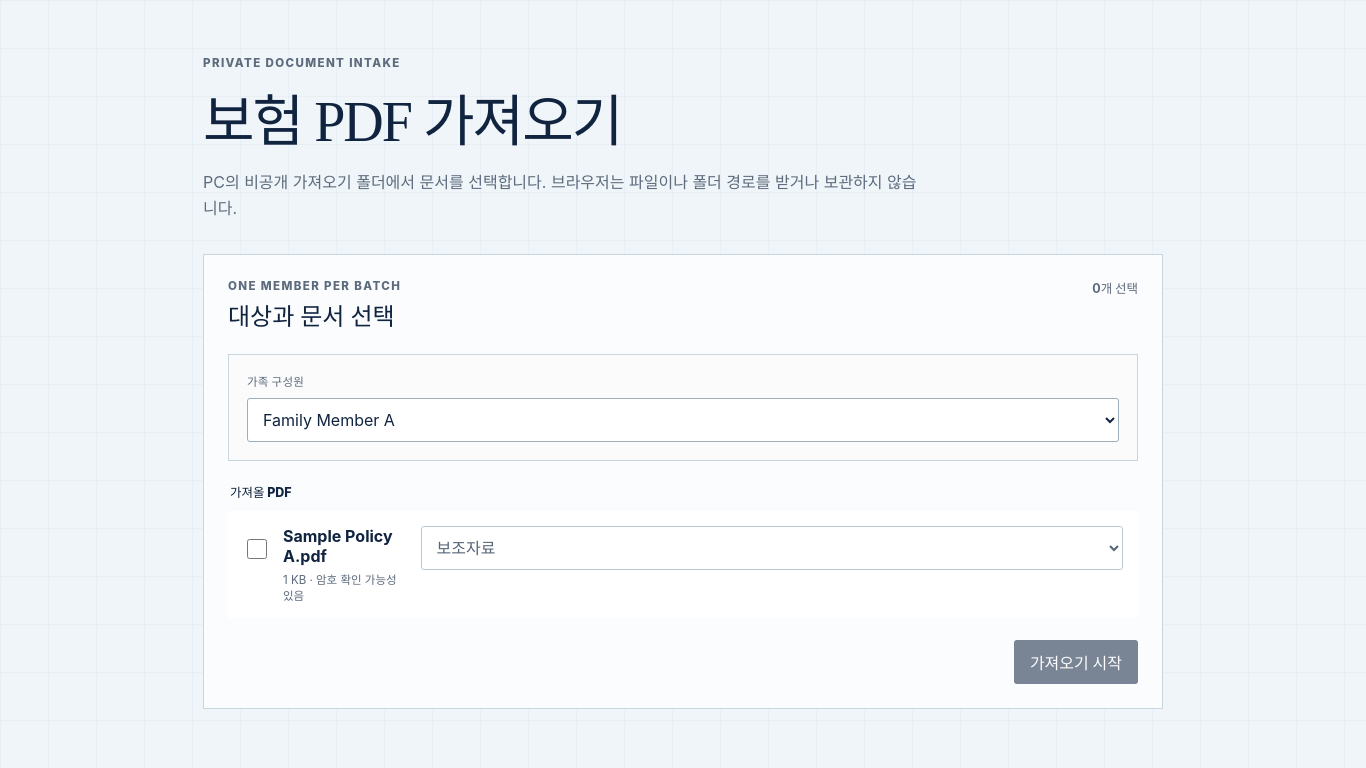
Test: document import page › clears and closes a dismissed password prompt
Click the checkbox labelled "Sample Policy A.pdf 1 KB · 암호 확인 가능성 있음": (257, 549) [247,527,267,571]
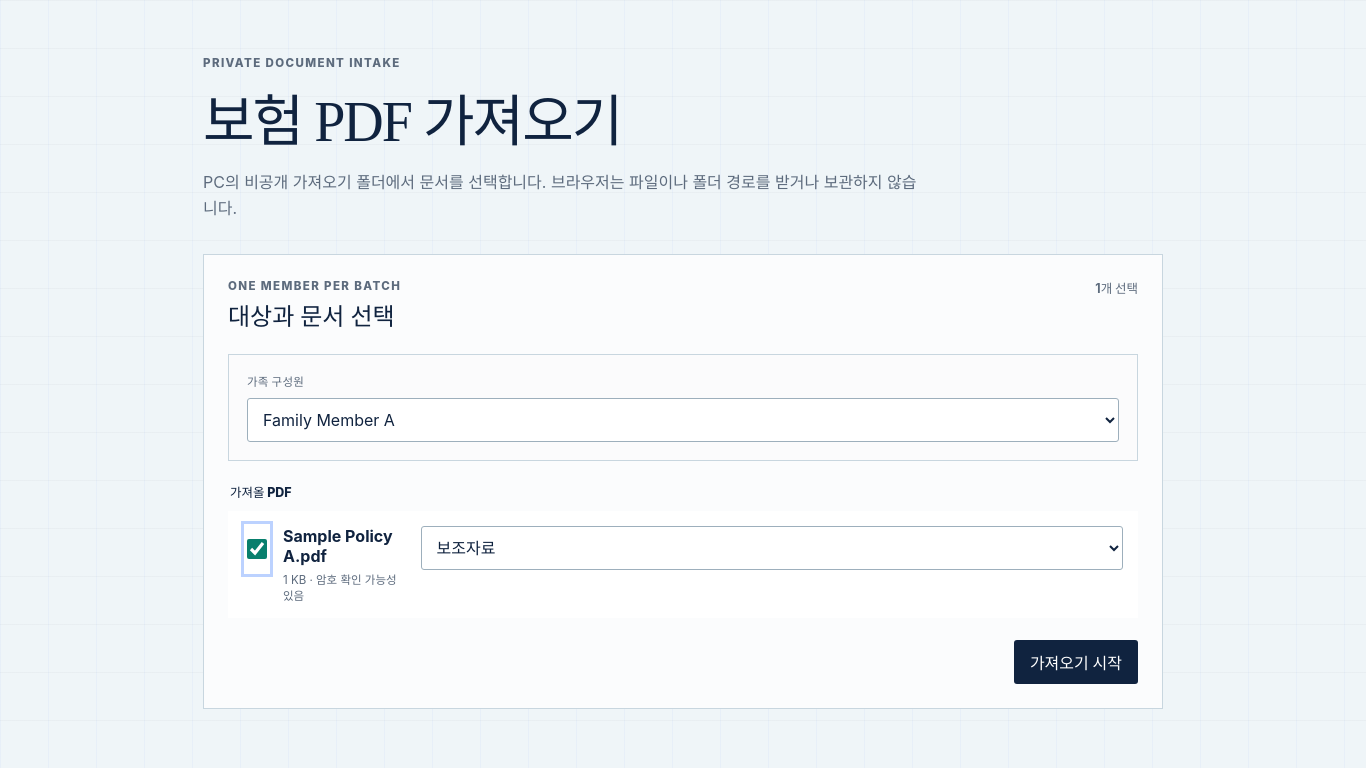
Click the button "가져오기 시작": (1076, 662) [1014,640,1138,684]
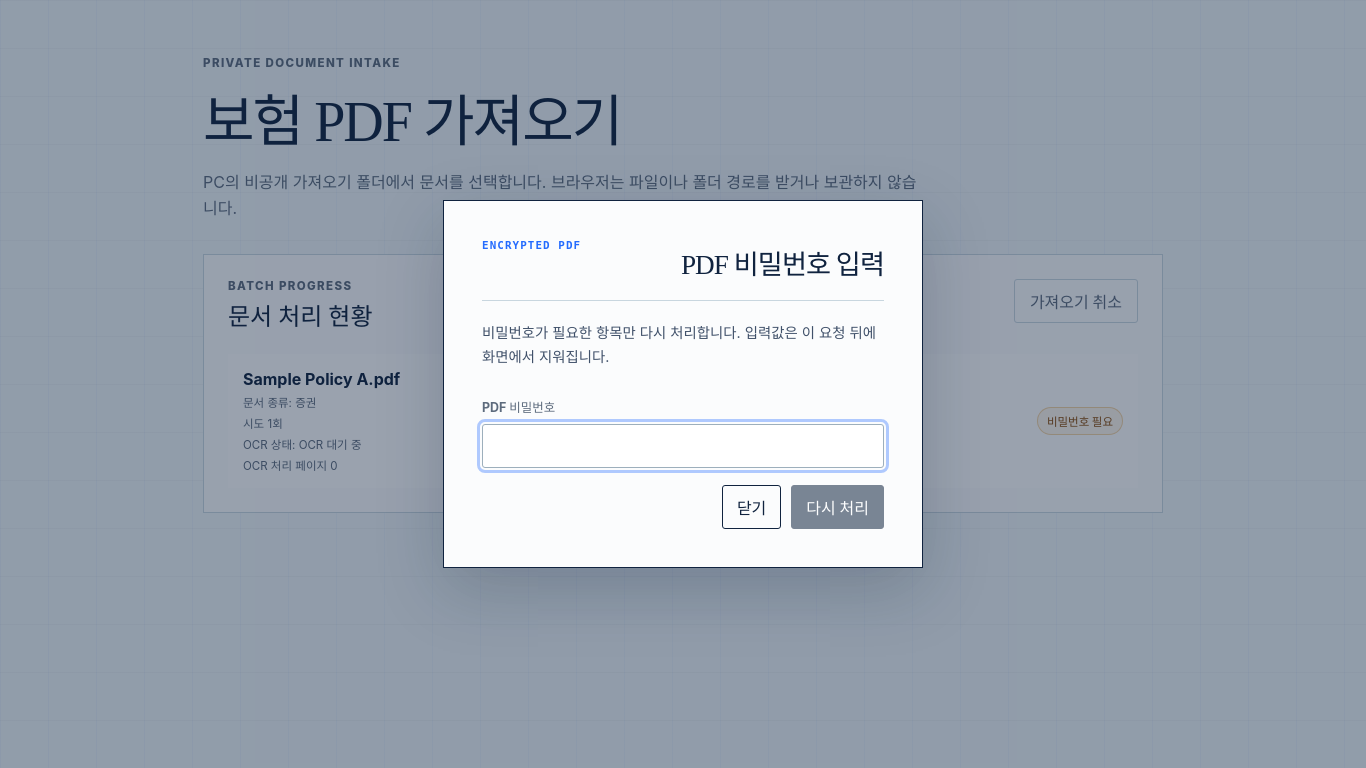
In the password field labelled "PDF 비밀번호": (683, 446) [482,424,884,468], type "temporary-value"
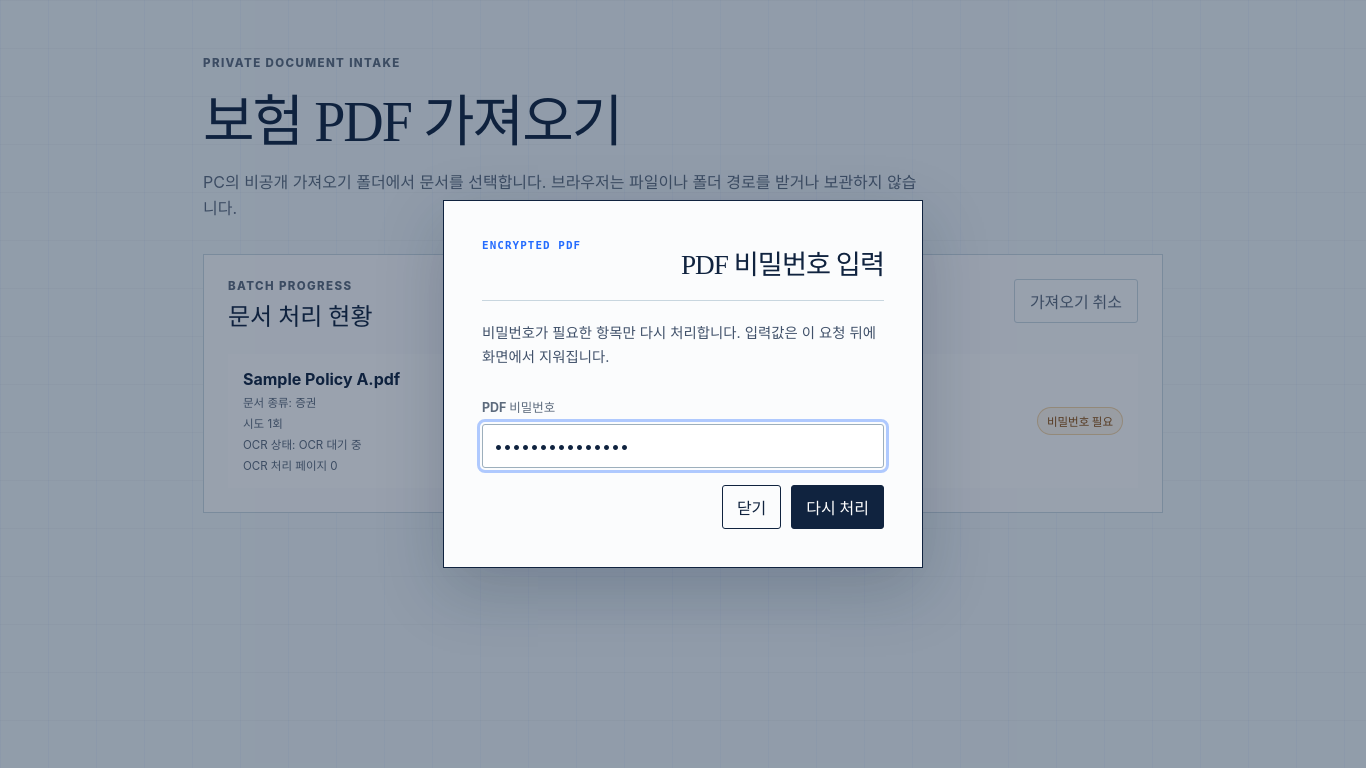
Click the button "닫기": (752, 507) [722,485,781,529]
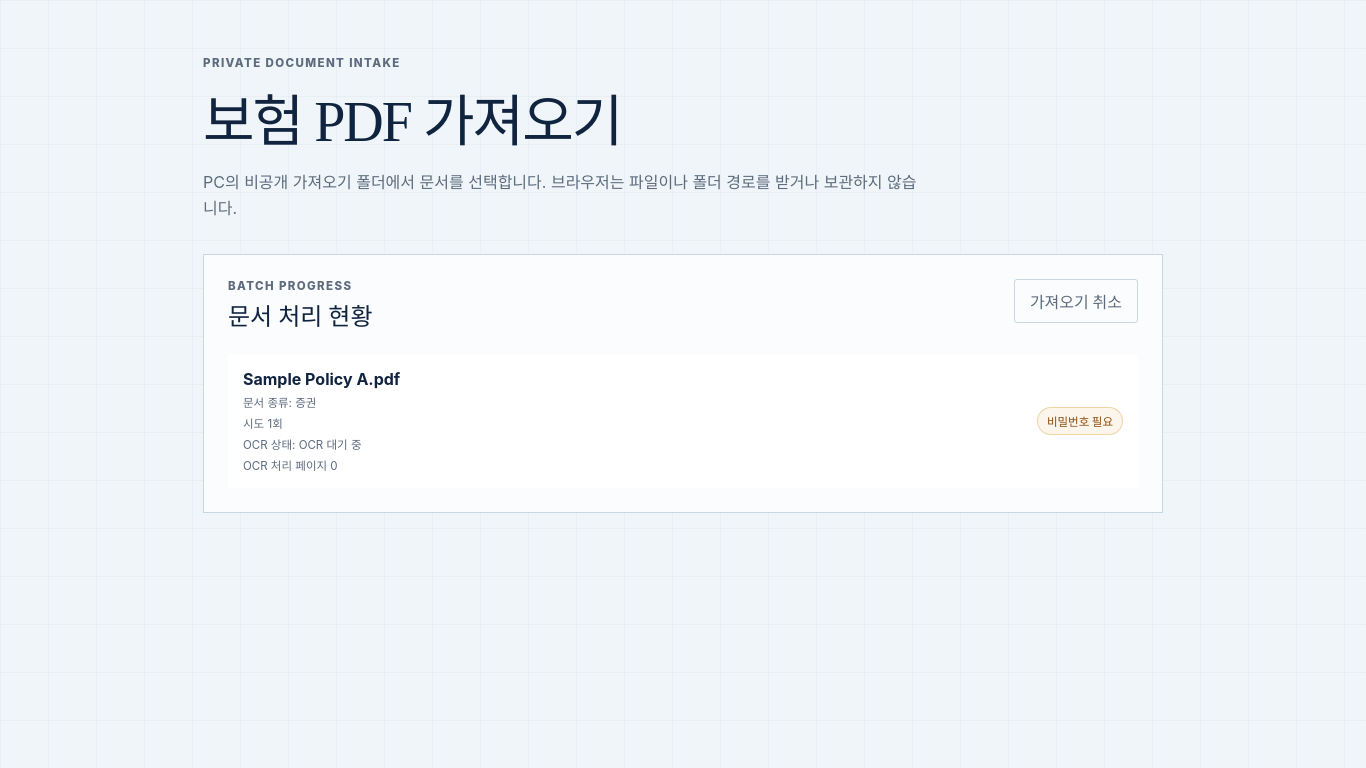
Now the dialog is gone
